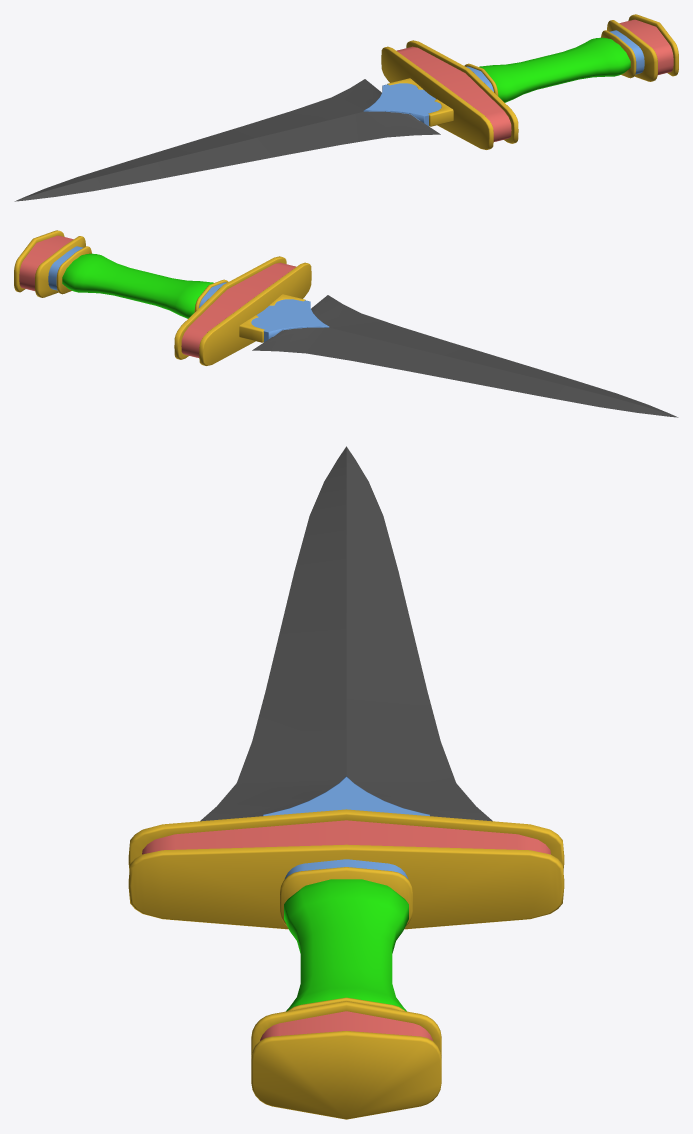
File: QueenDagger.fbx
The picture shows the model from 3 angles, top to bottom: view 1: azimuth 30°, elevation 25°; view 2: azimuth 150°, elevation 25°; view 3: azimuth 270°, elevation 25°; orthographic projection. The views are drawn at different scales.
Visible parts, largest first — view 1: Plane.001, Cylinder.005, Cylinder.008, Cylinder.007, Cylinder.001, Cylinder.006, Cylinder.004; view 2: Plane.001, Cylinder.005, Cylinder.008, Cylinder.007, Cylinder.001, Cylinder.006, Cylinder.004; view 3: Plane.001, Cylinder.008, Cylinder.001, Cylinder.005, Cylinder.007, Cylinder.006, Cylinder.009.
Part boxes in pixels (left/top/right/bottom): Plane.001: left=14, top=79, right=441, bottom=201; Cylinder.005: left=479, top=37, right=630, bottom=102; Cylinder.008: left=381, top=40, right=518, bottom=149; Cylinder.007: left=396, top=46, right=511, bottom=141; Cylinder.001: left=601, top=14, right=678, bottom=81; Cylinder.006: left=619, top=19, right=673, bottom=74; Cylinder.004: left=387, top=78, right=453, bottom=126; Plane.001: left=251, top=295, right=678, bottom=417; Cylinder.005: left=62, top=253, right=213, bottom=318; Cylinder.008: left=174, top=256, right=311, bottom=365; Cylinder.007: left=181, top=262, right=296, bottom=357; Cylinder.001: left=14, top=230, right=91, bottom=297; Cylinder.006: left=19, top=235, right=73, bottom=290; Cylinder.004: left=239, top=294, right=305, bottom=342; Plane.001: left=200, top=446, right=492, bottom=821; Cylinder.008: left=128, top=809, right=564, bottom=929; Cylinder.001: left=251, top=997, right=441, bottom=1119; Cylinder.005: left=284, top=879, right=408, bottom=1011; Cylinder.007: left=142, top=820, right=550, bottom=854; Cylinder.006: left=260, top=1011, right=432, bottom=1040; Cylinder.009: left=280, top=867, right=412, bottom=925.
Size of the model in its own units: 426 by 27.14 by 125.
